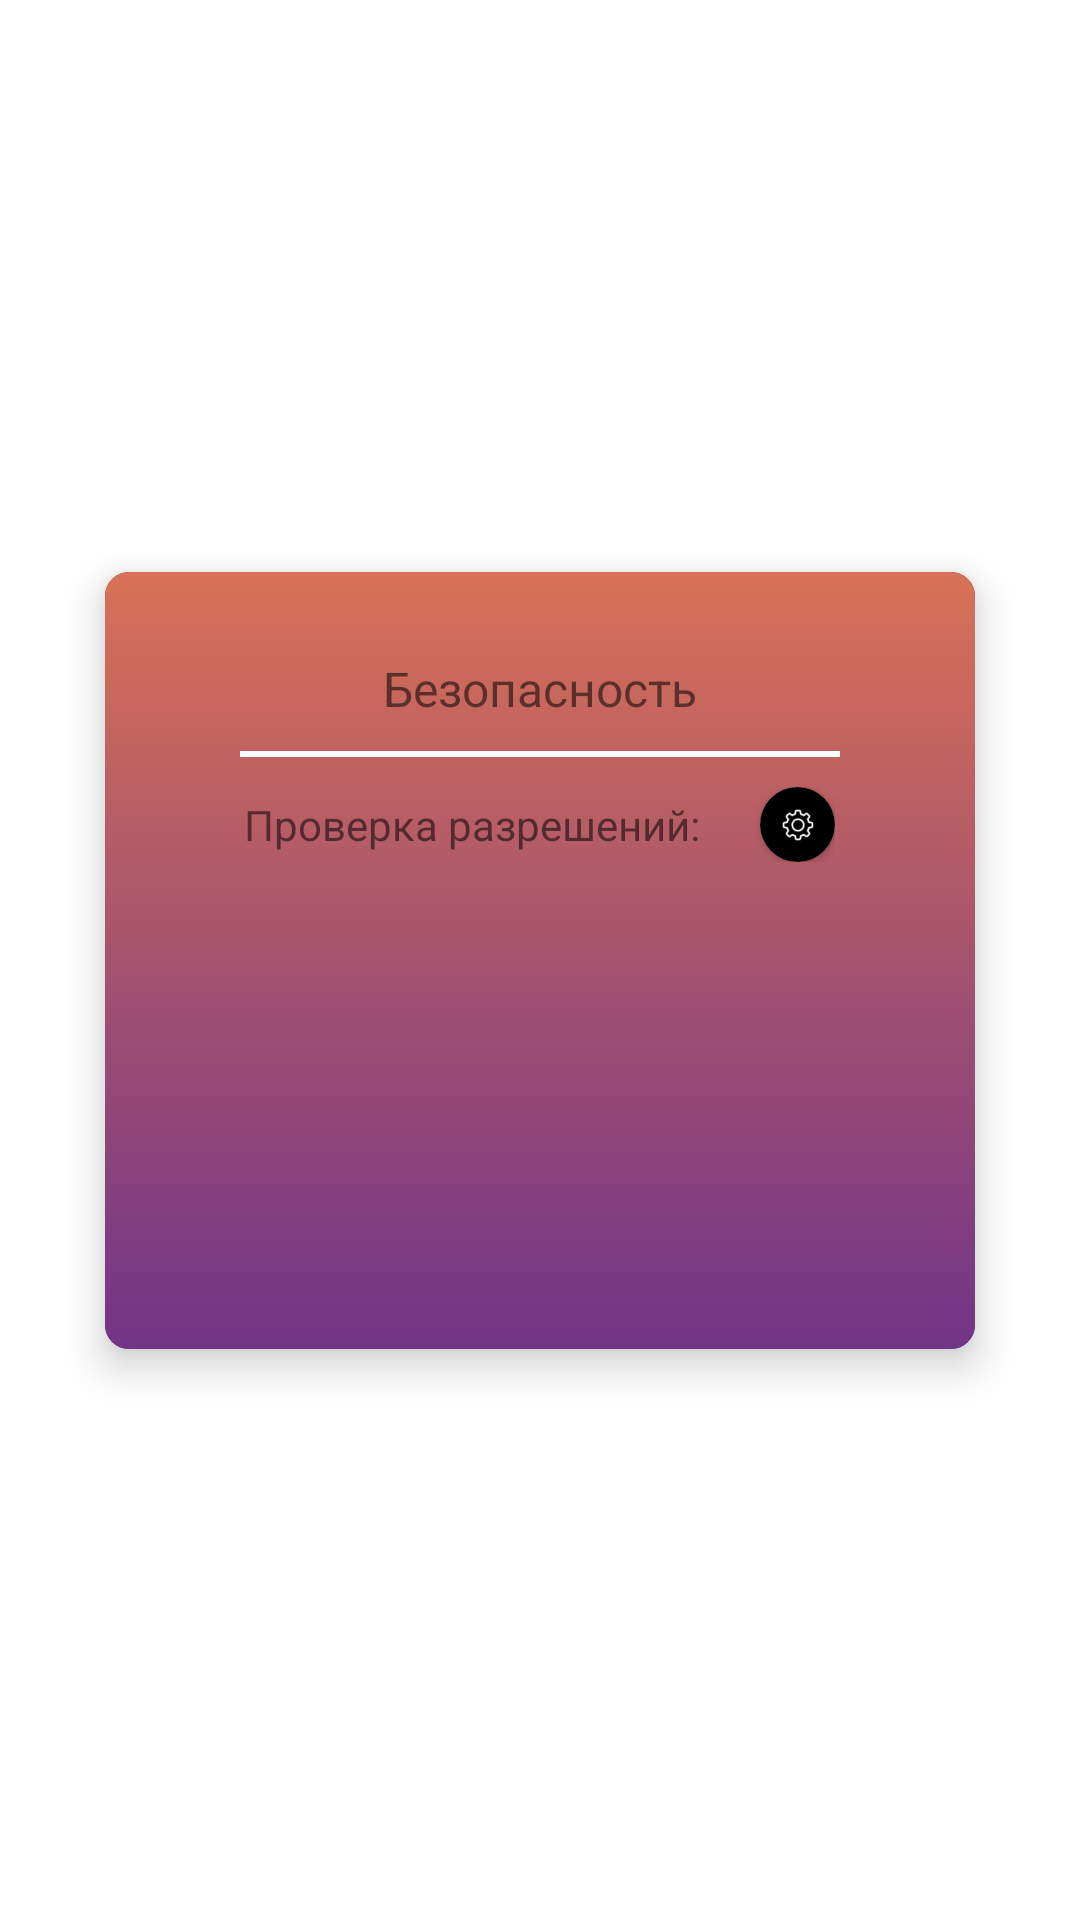

Icons on this 1080px×1920px Android screen, each with the point to tap as (x=x, y=y):
settings round: (x=797, y=824)
